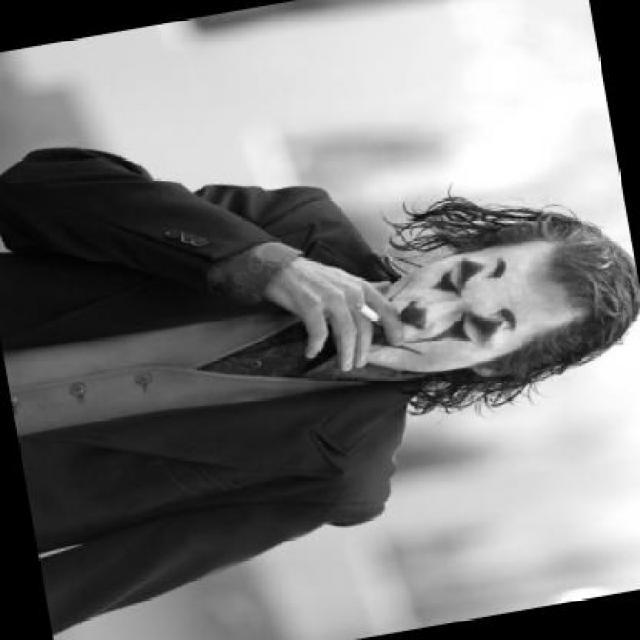cigarette: (274, 263, 409, 374)
